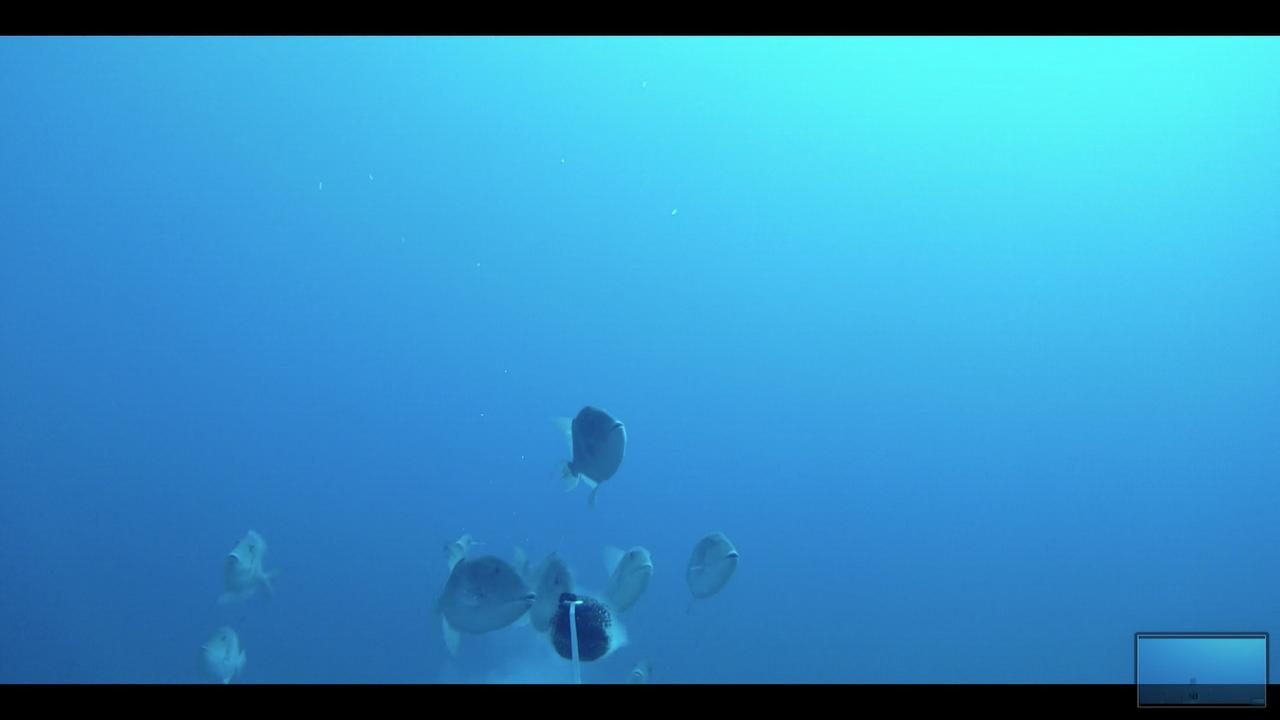balistes: (538, 400, 633, 511), (428, 551, 538, 634), (582, 536, 660, 619), (209, 521, 289, 601), (675, 525, 742, 610), (187, 624, 264, 680)
